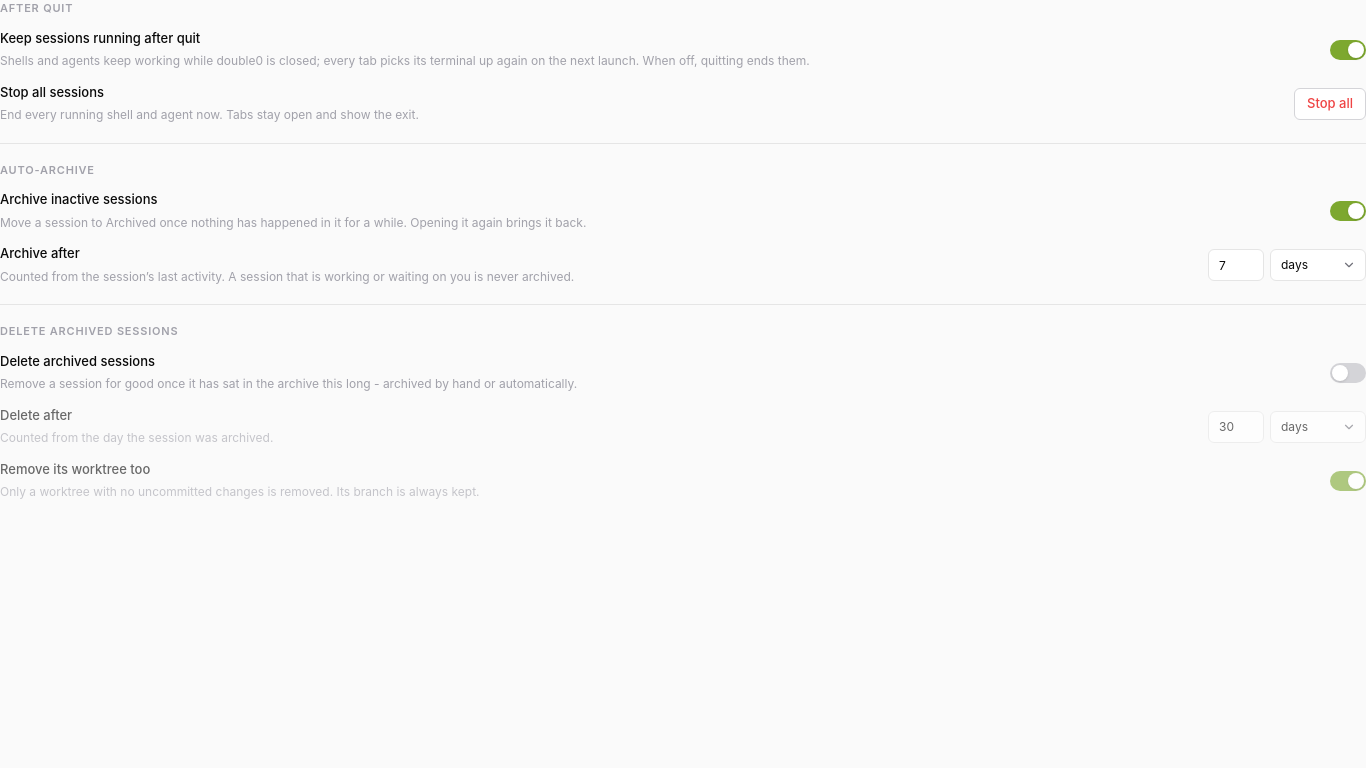
it: SessionsSettingsSection › asks before turning on a rule that deletes at once, and Cancel keeps it off
This screenshot has width=1366, height=768.
Later steps or results of the test are not shown.
Click the switch named "Delete archived sessions".
click(1348, 372)  # box top-left (1330, 362), bottom-right (1365, 382)
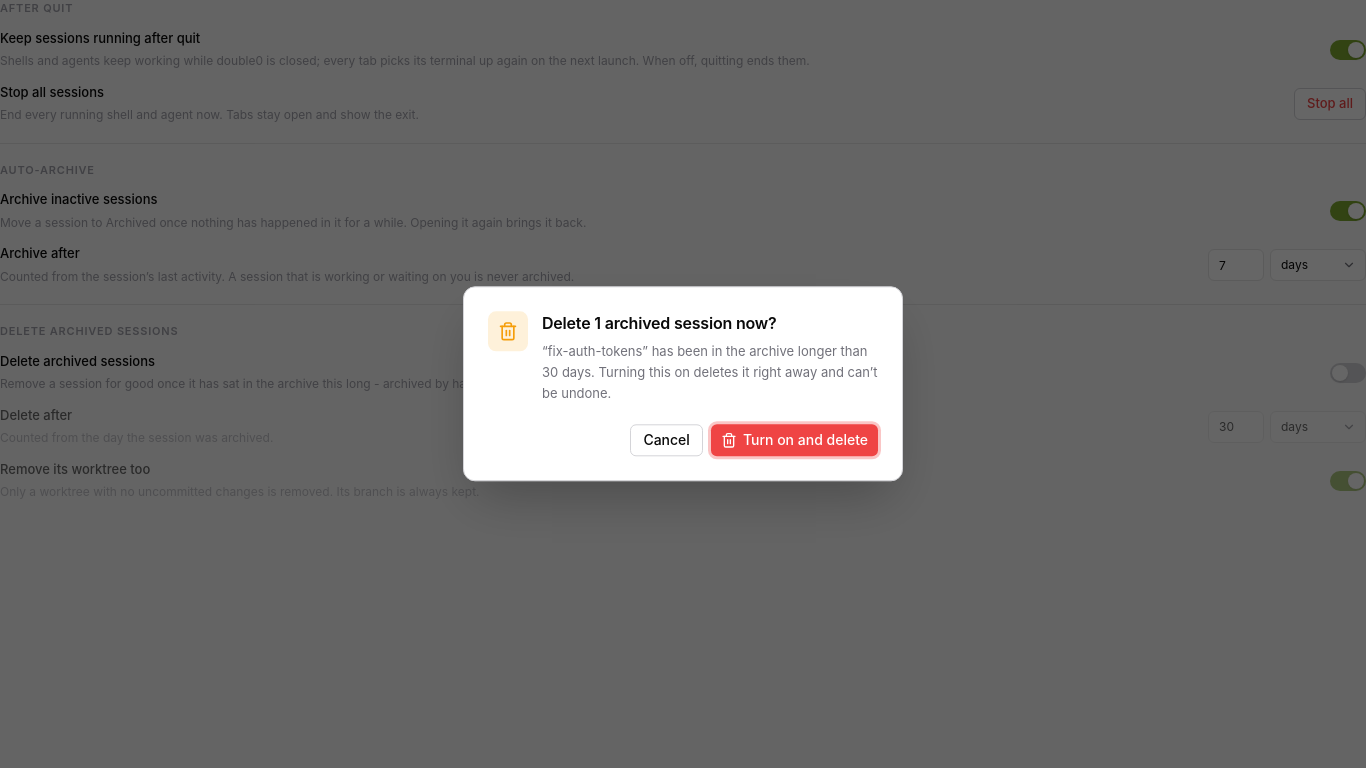
expect the dialog is shown: met, box top-left (463, 286), bottom-right (903, 482)
expect the dialog shows "Delete 1 archived session now?": met, box top-left (542, 313), bottom-right (776, 333)
expect the dialog shows "“fix-auth-tokens” has been in the archive longer than 30 days": met, box top-left (542, 343), bottom-right (878, 402)
